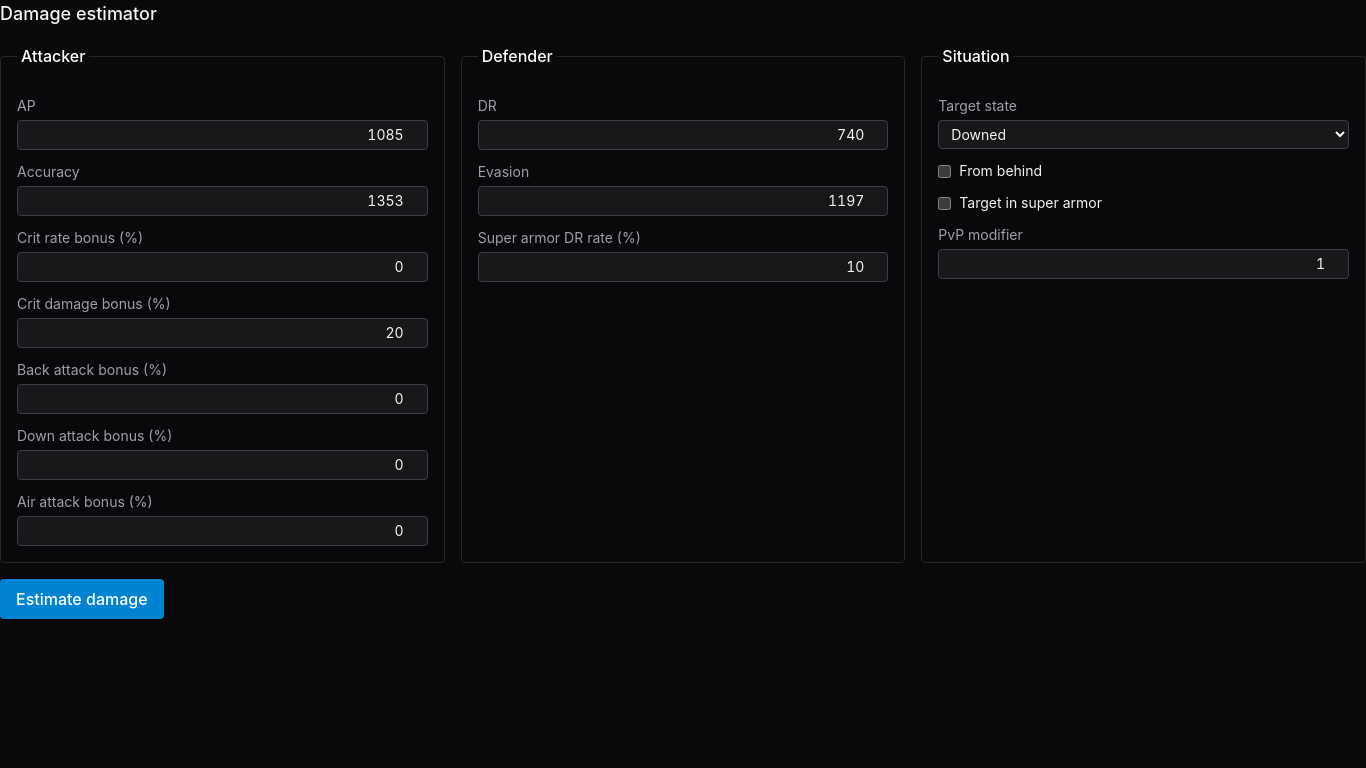
DamageEstimator › shows the total expected HP loss and its breakdown
Click the button "Estimate damage" at (82, 599), box [0,579,164,619]
(page scrolled)
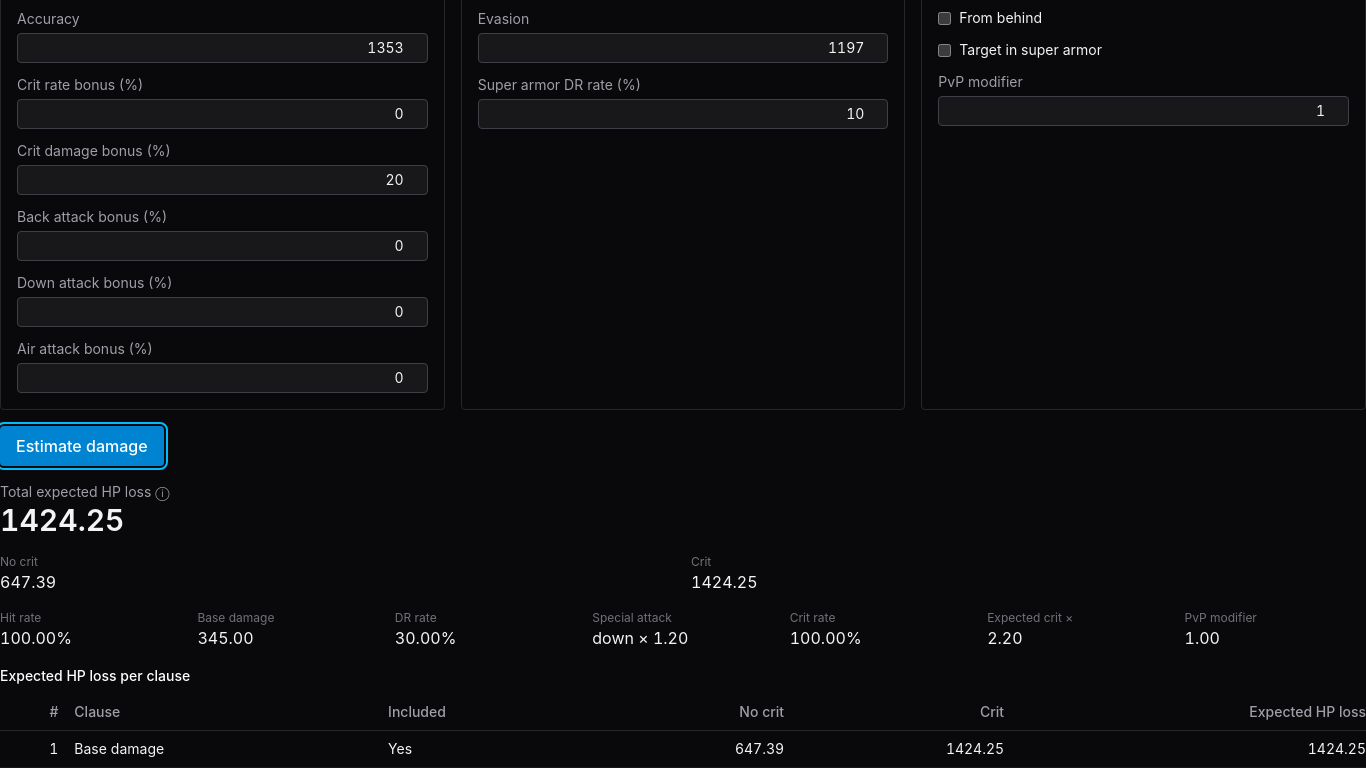
expect the text "1424.25" below "Total expected HP loss" is shown: met, box [0,502,124,538]
expect the text "100.00%" below "Hit rate" is shown: met, box [0,628,72,648]
expect the text "345.00" is shown: met, box [197,628,254,648]
